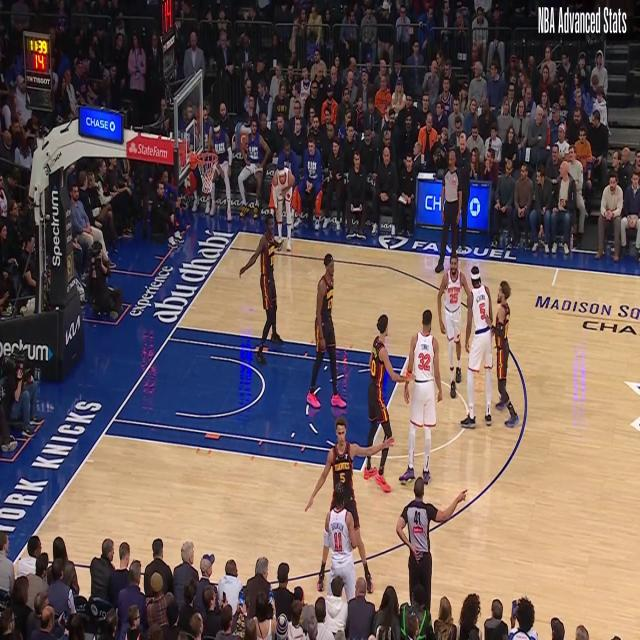judge: (396, 485, 465, 613), (436, 152, 462, 266)
player: (306, 421, 386, 562), (368, 316, 411, 484), (308, 257, 352, 418), (240, 218, 288, 362), (404, 311, 444, 483), (317, 484, 363, 608), (466, 262, 496, 432), (437, 255, 469, 396), (492, 280, 521, 432), (273, 162, 294, 258)
